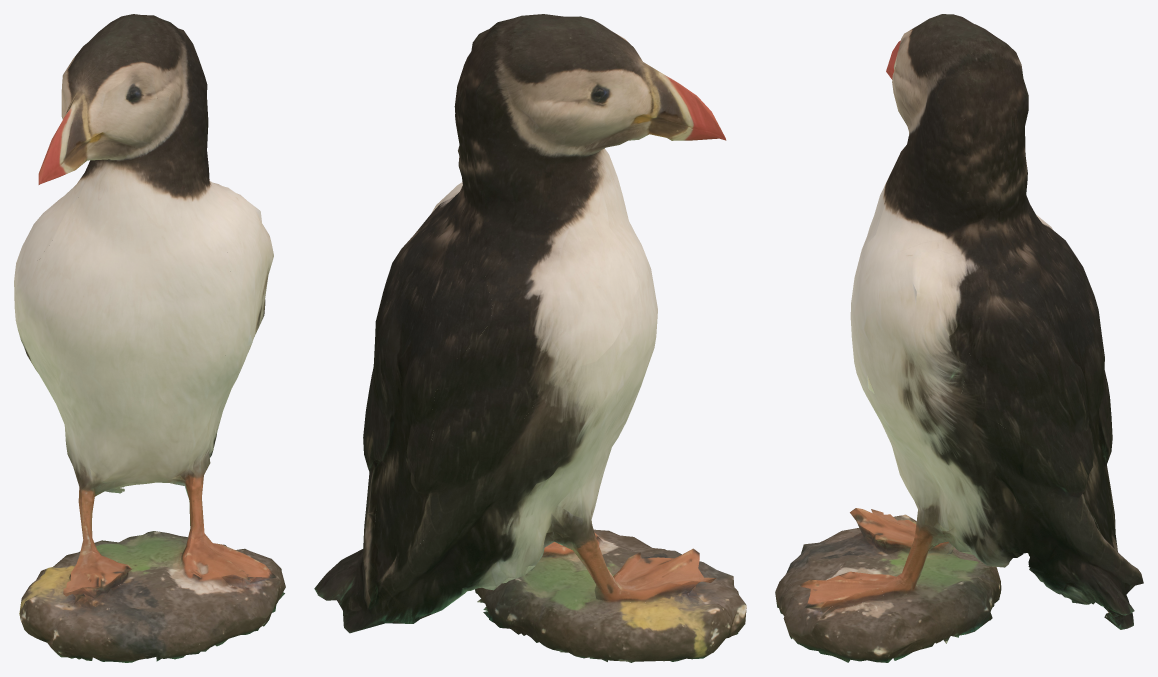
File: atlantic-puffin.glb
The picture shows the model from 3 angles, left to right: view 1: azimuth 30°, elevation 25°; view 2: azimuth 150°, elevation 25°; view 3: azimuth 270°, elevation 25°; orthographic projection. The views are drawn at different scales.
Visible parts, largest first — view 1: Object_2, Object_3; view 2: Object_2, Object_3; view 3: Object_3, Object_2.
Part boxes in pixels (bbox=[...]): Object_2: bbox=[14, 14, 275, 606]; Object_3: bbox=[14, 16, 285, 662]; Object_2: bbox=[318, 22, 721, 633]; Object_3: bbox=[314, 14, 746, 662]; Object_3: bbox=[775, 14, 1127, 662]; Object_2: bbox=[805, 29, 1143, 629].
Size of the model in its own units: 1.46 by 2.95 by 1.65.
Materials: 2 (2 with a texture image).
